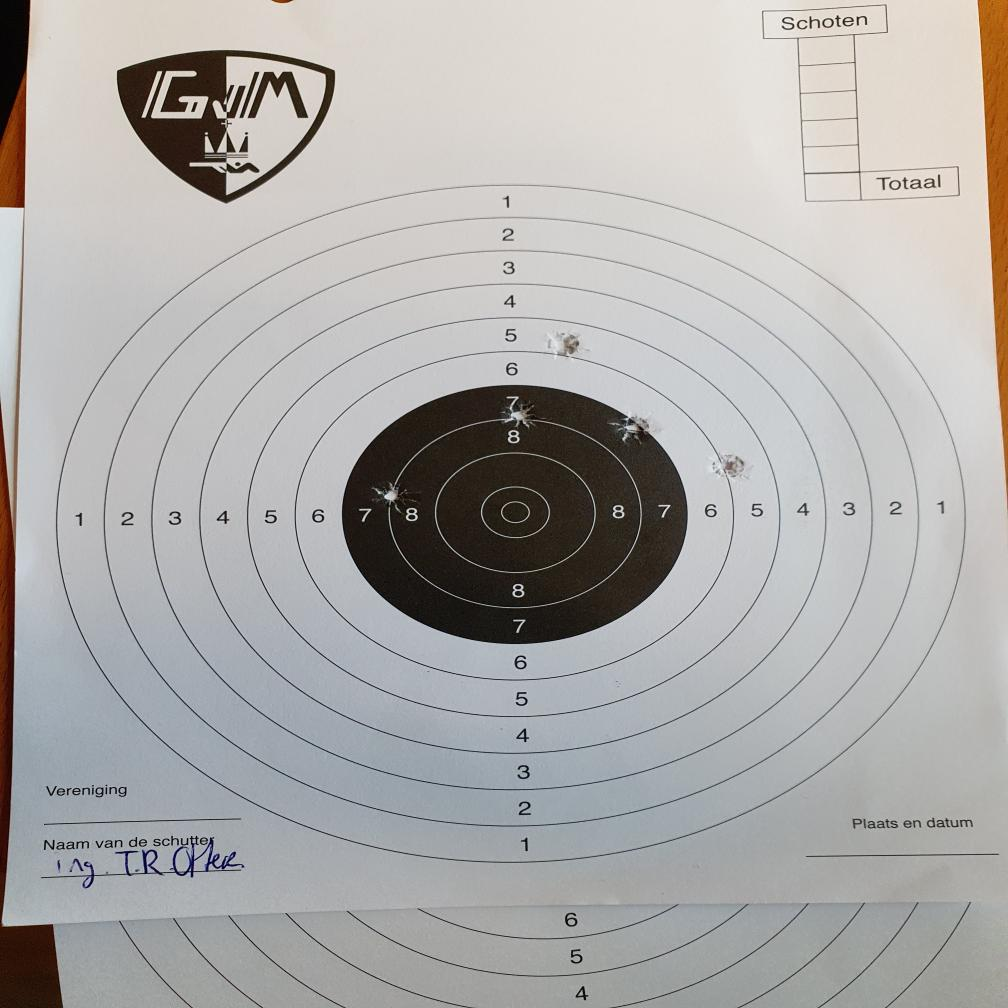6: (540, 327, 589, 361), (711, 449, 750, 478)
7: (615, 412, 658, 442)
8: (366, 480, 414, 513), (493, 401, 542, 429)
Target: (56, 184, 964, 862)
black_contour: (341, 384, 687, 644)
